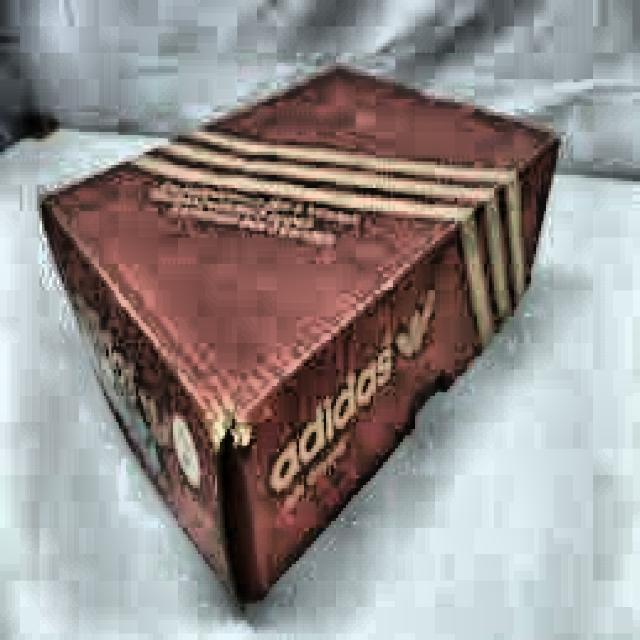cardboard: (37, 59, 559, 614)
